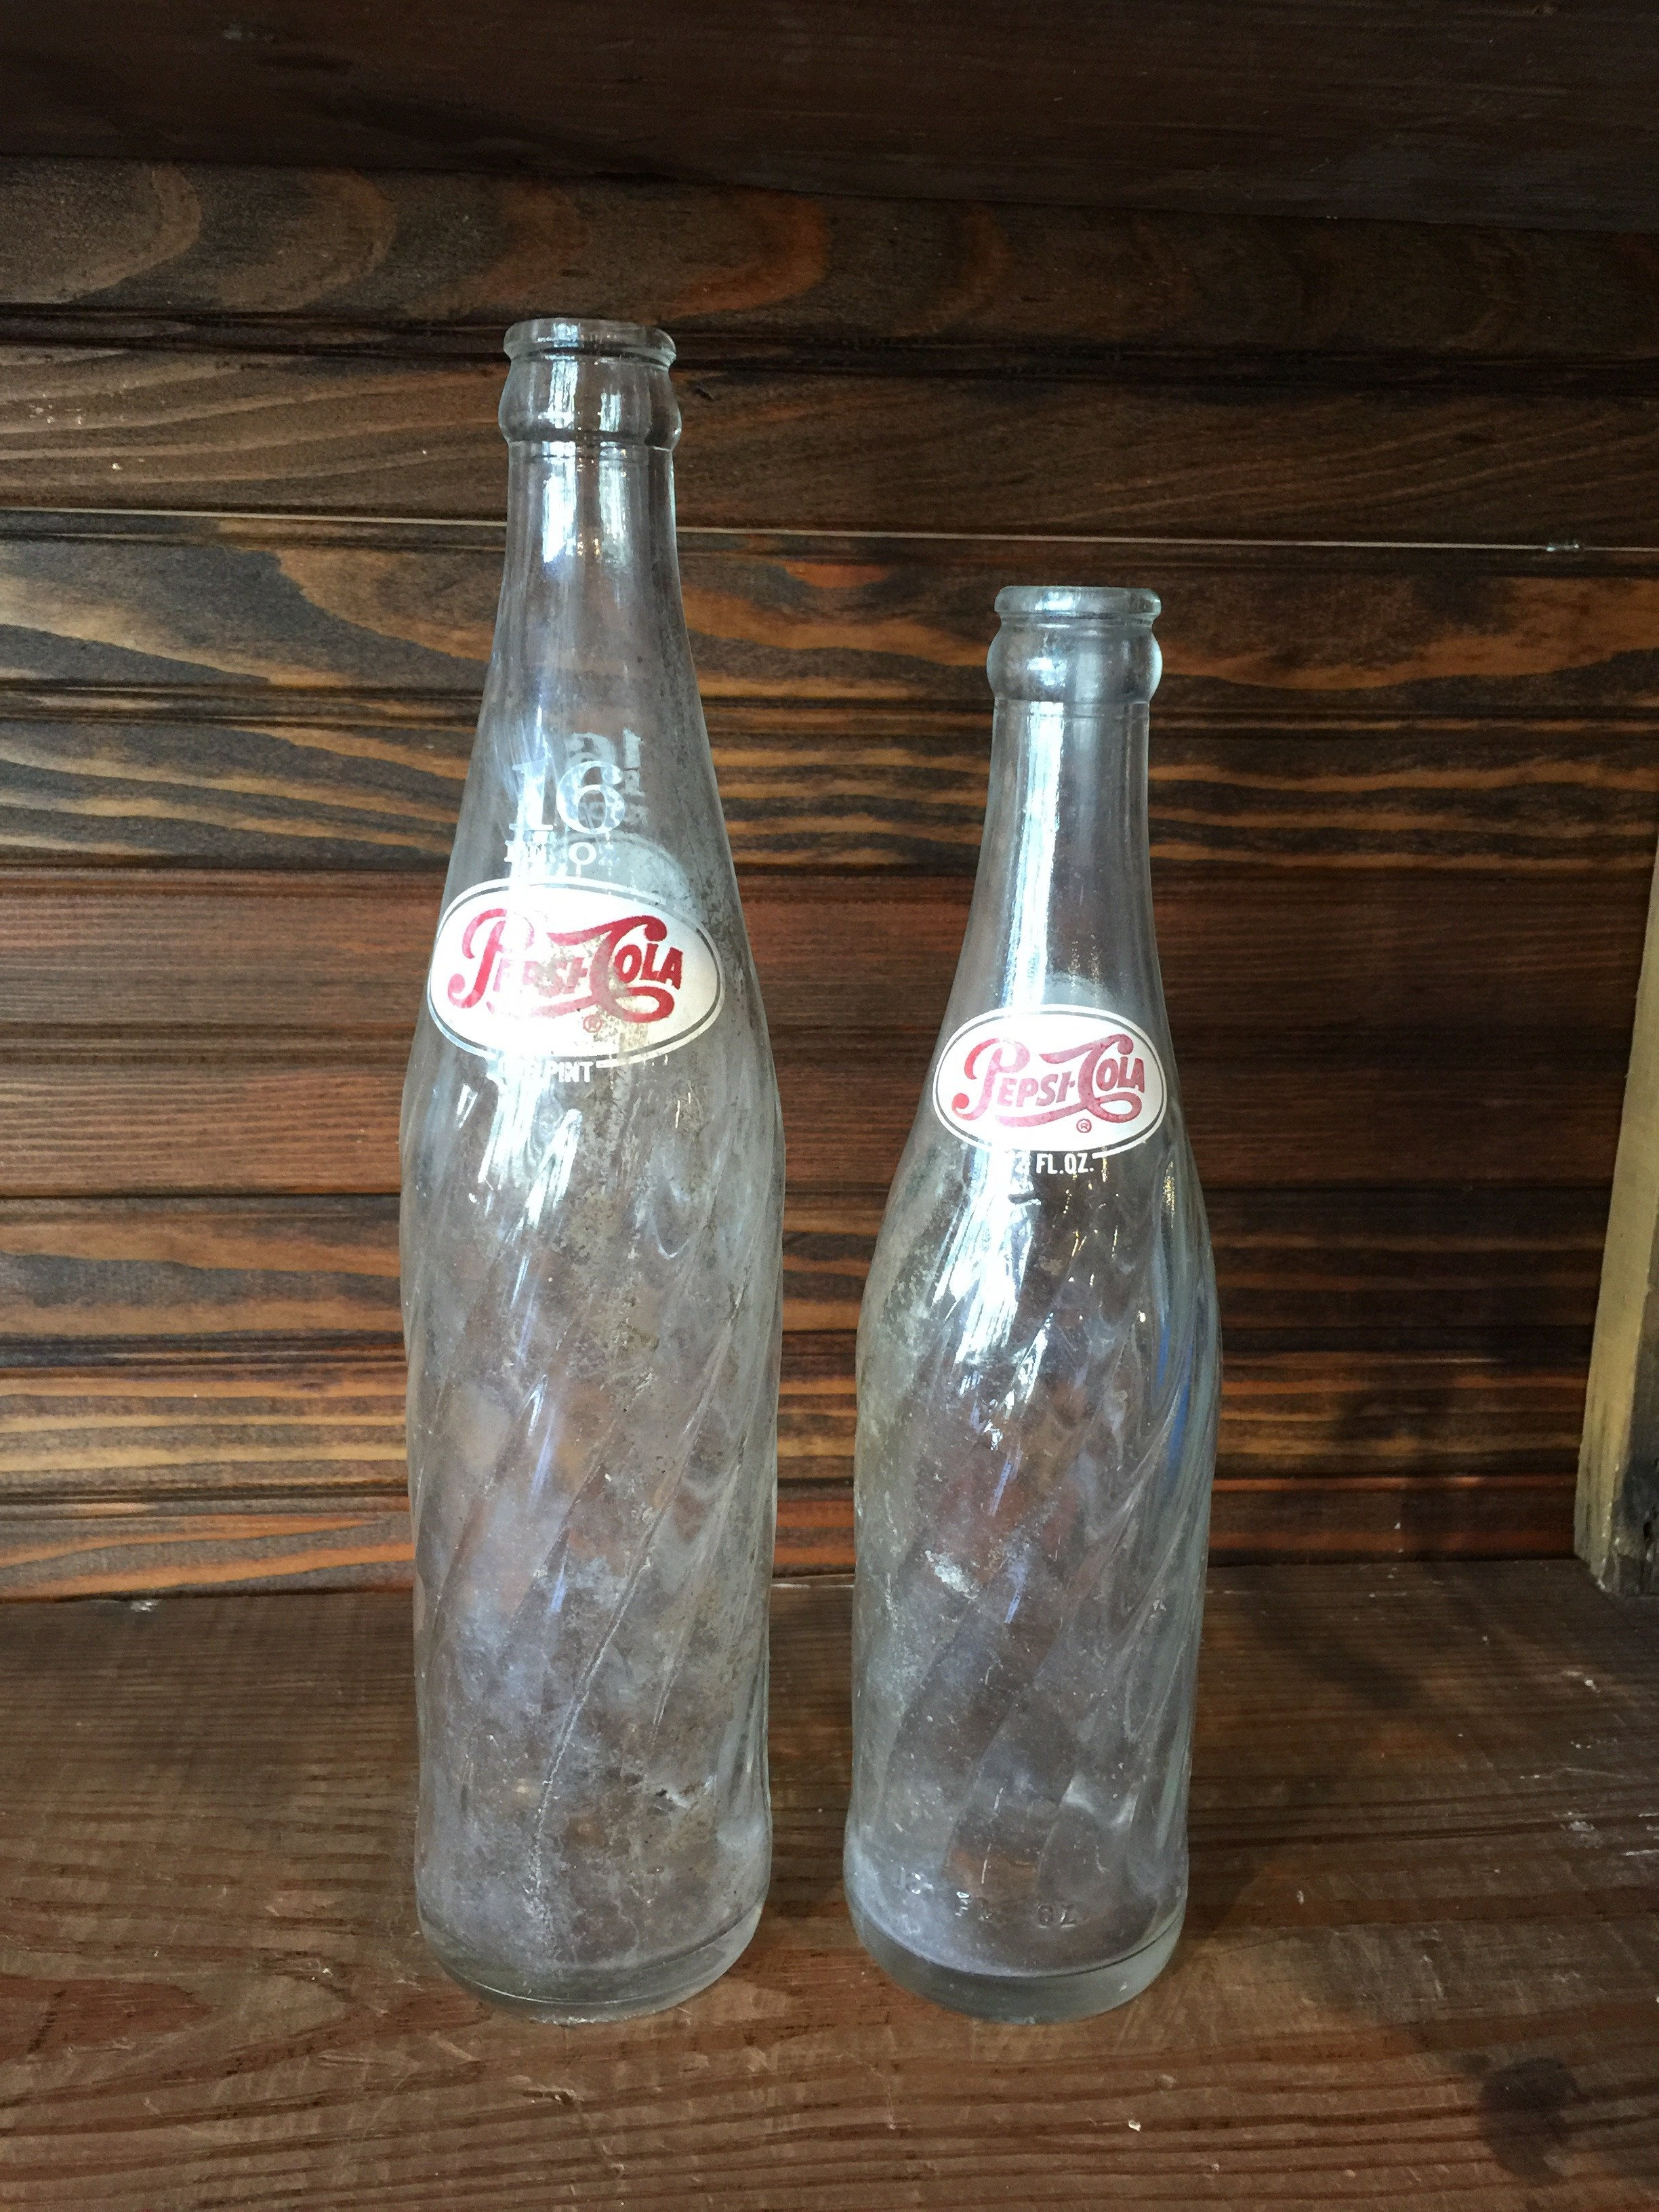Rec_Glass: (322, 291, 819, 2067), (823, 519, 1220, 2050)
